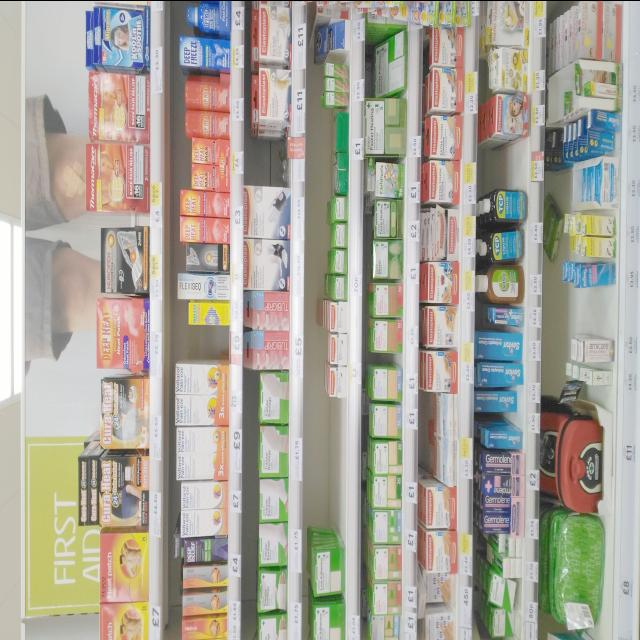empty_space: (309, 396, 345, 536), (563, 285, 615, 335), (177, 323, 231, 365), (243, 138, 293, 182), (486, 140, 526, 186)
